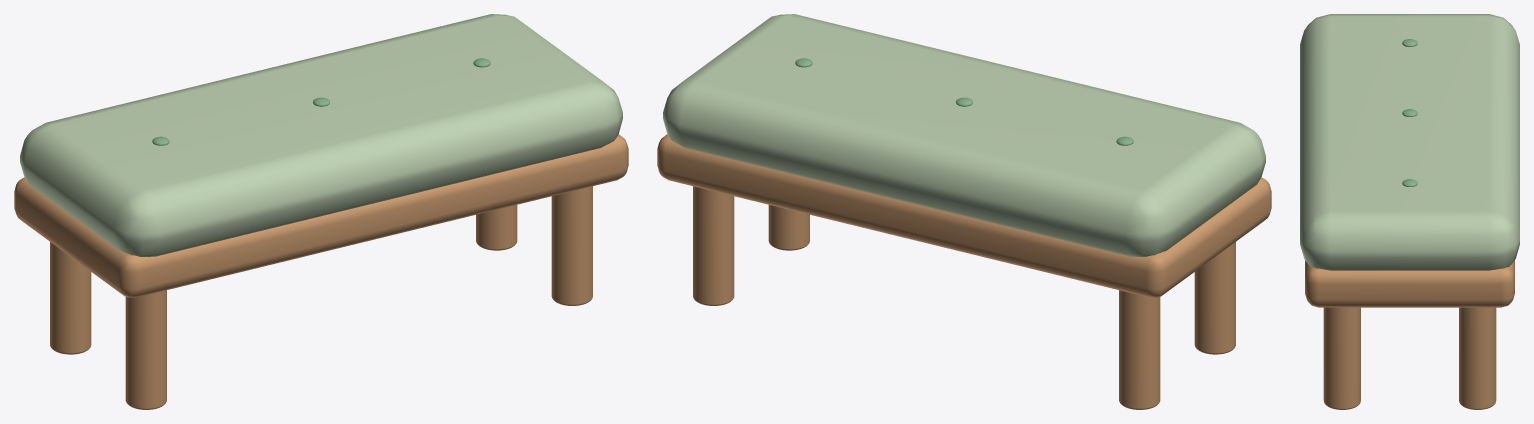
File: bedroomBench.glb
The picture shows the model from 3 angles, left to right: view 1: azimuth 30°, elevation 25°; view 2: azimuth 150°, elevation 25°; view 3: azimuth 270°, elevation 25°; orthographic projection. The views are drawn at different scales.
Parts seen in each view (by area): view 1: Tufted bench cushion, Bench oak base, Bench leg, Bench leg.002, Bench leg.001, Bench leg.003; view 2: Tufted bench cushion, Bench oak base, Bench leg.001, Bench leg.003, Bench leg, Bench leg.002; view 3: Tufted bench cushion, Bench oak base, Bench leg.002, Bench leg.003.
Part boxes in pixels (x1,y1,x2,y2): Tufted bench cushion: [20, 14, 622, 256]; Bench oak base: [14, 134, 628, 297]; Bench leg: [125, 290, 166, 409]; Bench leg.002: [551, 186, 592, 305]; Bench leg.001: [50, 242, 91, 354]; Bench leg.003: [476, 205, 517, 250]; Tufted bench cushion: [663, 14, 1265, 256]; Bench oak base: [657, 134, 1271, 297]; Bench leg.001: [1119, 290, 1160, 409]; Bench leg.003: [693, 186, 734, 305]; Bench leg: [1194, 242, 1235, 354]; Bench leg.002: [768, 205, 809, 250]; Tufted bench cushion: [1300, 14, 1519, 270]; Bench oak base: [1305, 260, 1514, 307]; Bench leg.002: [1323, 307, 1360, 409]; Bench leg.003: [1459, 307, 1496, 409].
Size of the model in its own units: 1.55 by 0.651 by 0.65.
